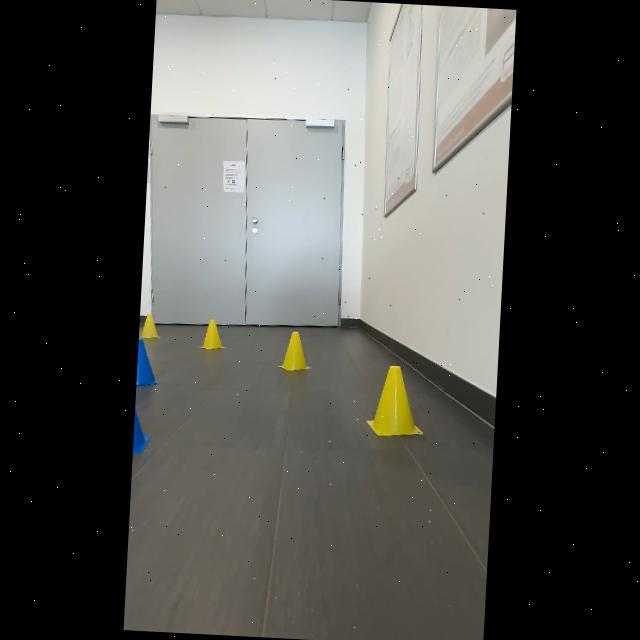yellow_cone: (360, 359, 430, 445), (276, 328, 314, 376), (196, 310, 228, 356)
